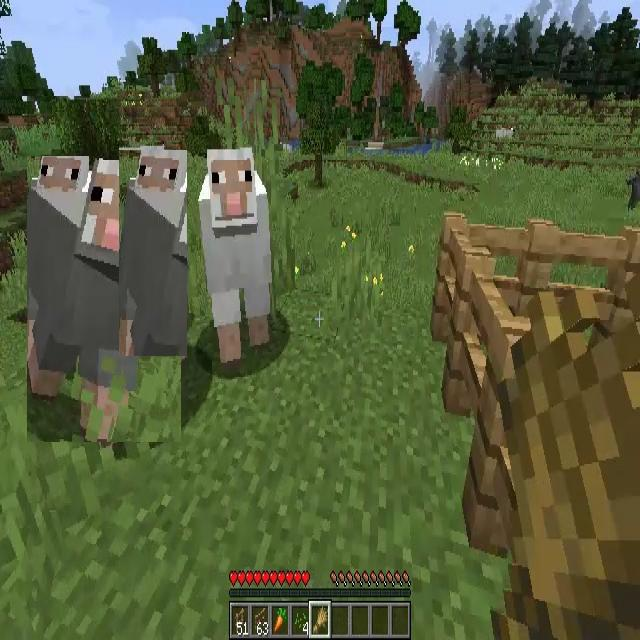sheep: (27, 156, 181, 442), (198, 149, 270, 365), (119, 150, 187, 356), (496, 127, 514, 142)
